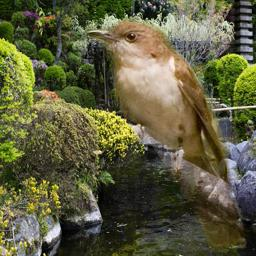Cuckoo: (82, 16, 247, 253)
